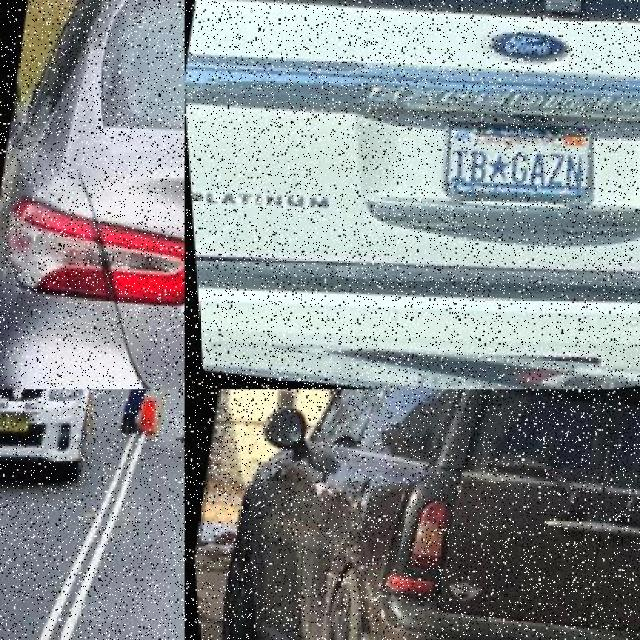licenseplate: (434, 127, 587, 212), (0, 415, 22, 434)
